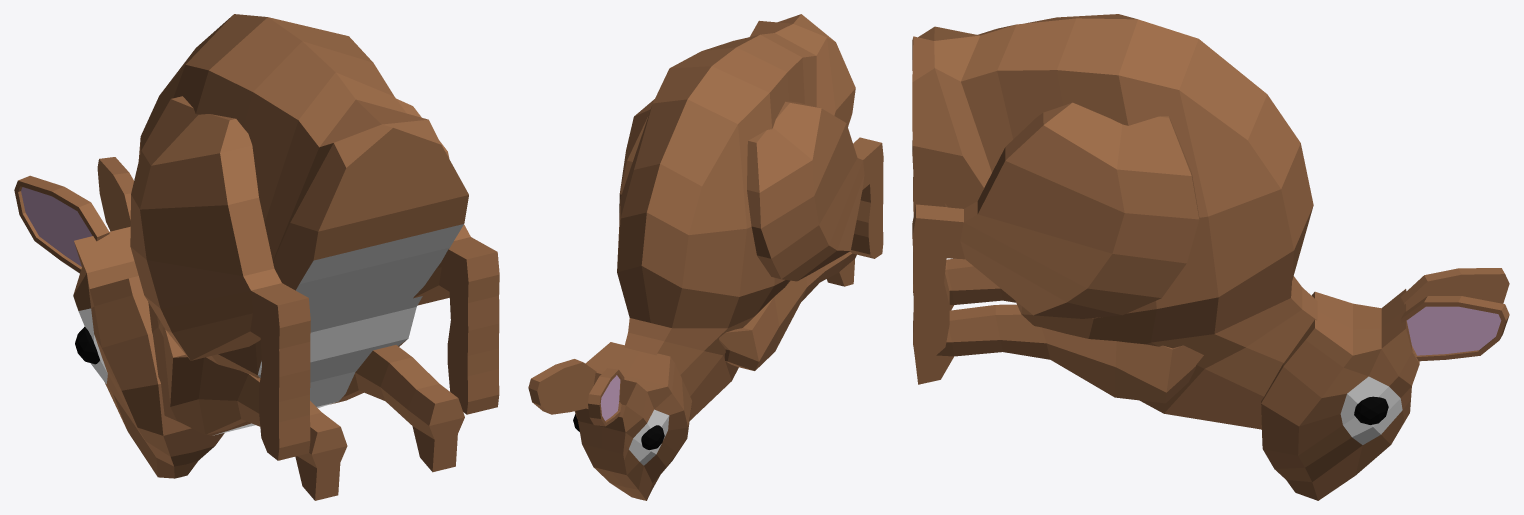
File: rabbit 1.fbx
3 views of the same model, side by side, from view 1: azimuth 30°, elevation 25°; view 2: azimuth 150°, elevation 25°; view 3: azimuth 270°, elevation 25° (orthographic). The views are drawn at different scales.
Visible parts, largest first — view 1: Plane; view 2: Plane; view 3: Plane.
Boxes of the visible parts, bbox=[...] form: Plane: bbox=[14, 14, 499, 500]; Plane: bbox=[528, 14, 883, 500]; Plane: bbox=[912, 14, 1509, 500].
Bounding box in the file's own units: 203 × 392 × 444.
